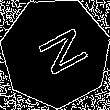N_SW: (24, 23, 87, 82)
